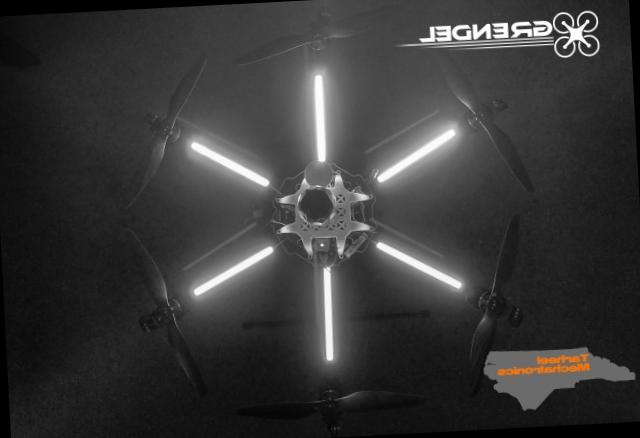drone: (81, 4, 560, 438)
